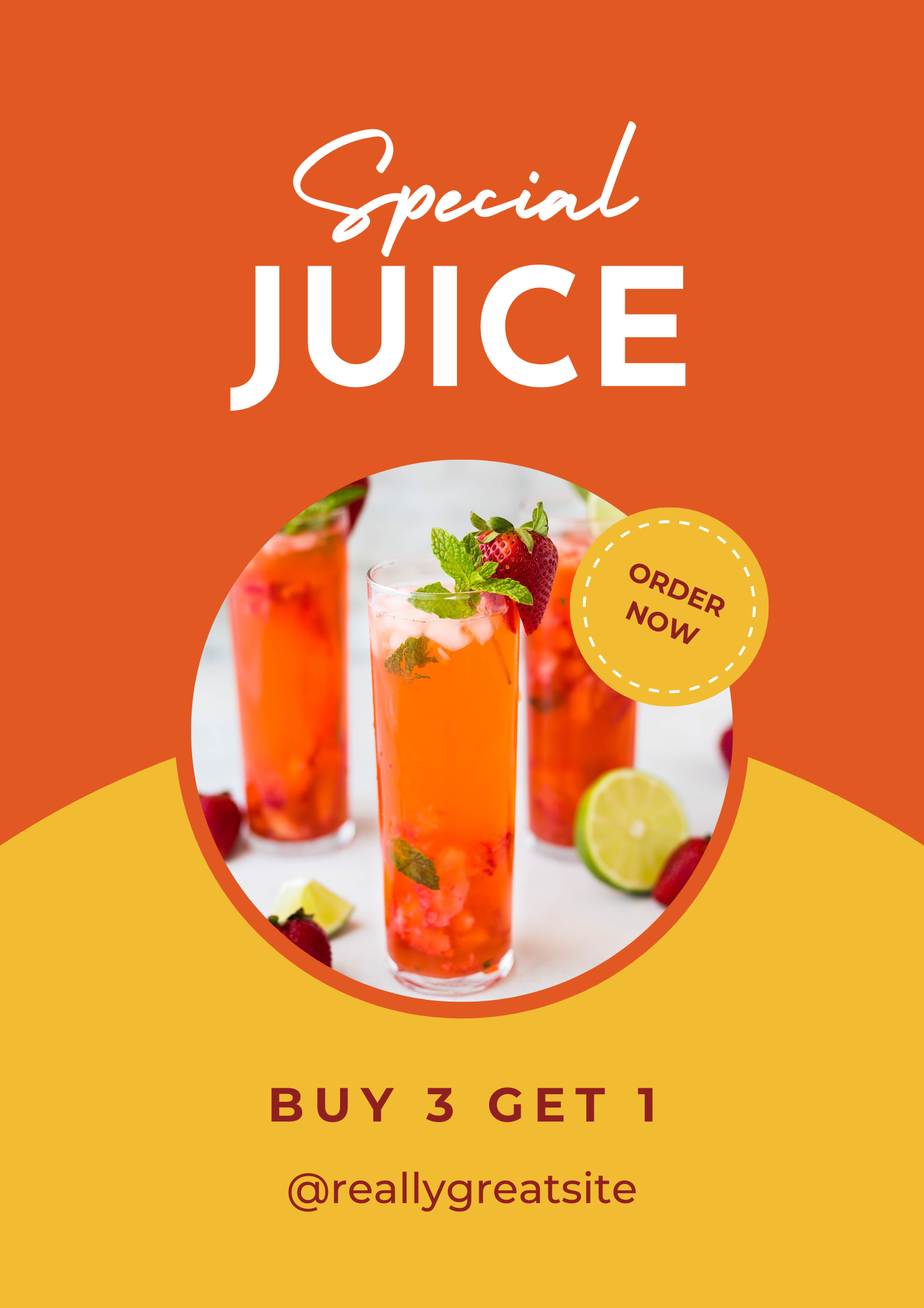CTA: (614, 548, 733, 656)
Headline: (192, 126, 710, 409)
Price: (247, 1076, 661, 1147)
Product: (227, 537, 614, 996)
